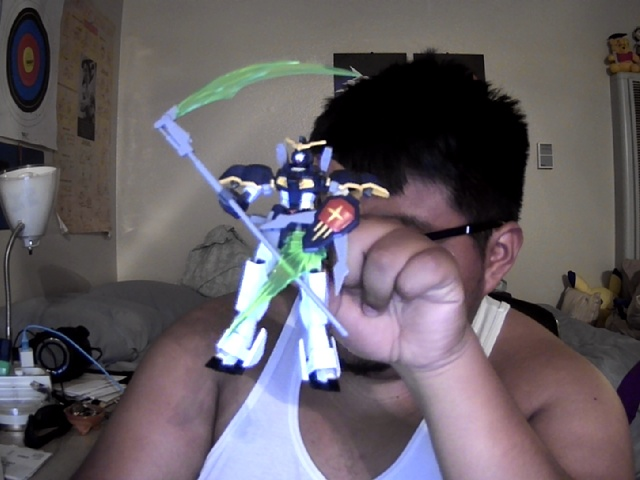Deathsythe: (153, 59, 390, 393)
